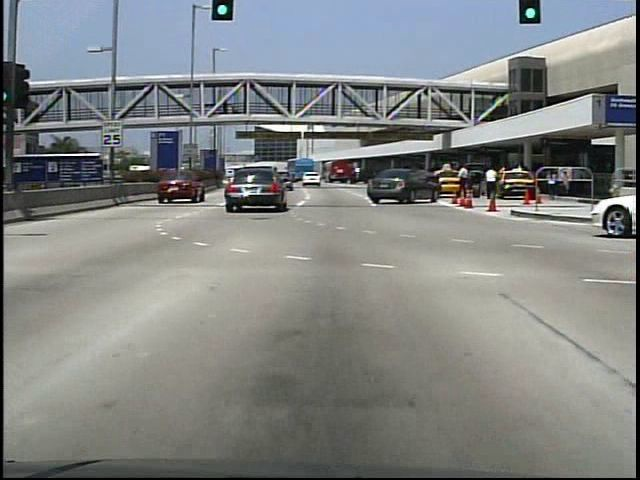person: (482, 166, 501, 203), (457, 166, 475, 205), (543, 168, 560, 204), (221, 96, 231, 117)
